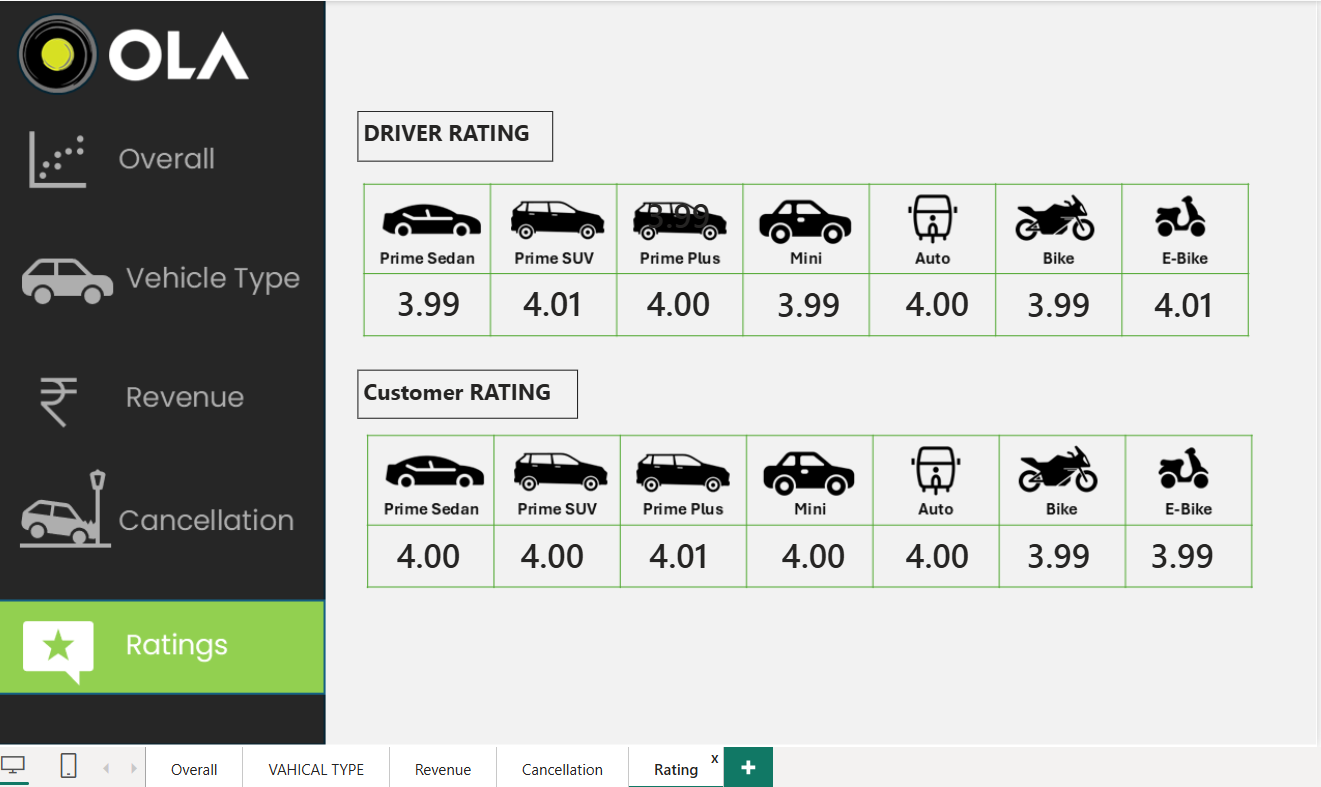

The dashboard page shown, as its layout file describes it:
{"tool":"powerbi","page":{"name":"Rating ","canvas":[1280,720],"ordinal":4},"visuals":[{"type":"actionButton","box":[0,581.5,322.1,85.7],"z":0},{"type":"actionButton","box":[0,340.2,322.1,92.9],"z":1000},{"type":"actionButton","box":[0,219.6,322.1,92.9],"z":2000},{"type":"actionButton","box":[0,333,322.1,92.9],"z":3000},{"type":"actionButton","box":[0,453.6,322.1,92.9],"z":4000},{"type":"cardVisual","fields":{"Data":["Avg(ola ola_d.Driver_Ratings)"]},"box":[354.3,255.7,137.1,67.1],"z":4001},{"type":"cardVisual","fields":{"Data":["Avg(ola ola_d.Driver_Ratings)"]},"box":[474.3,255.7,137.1,67.1],"z":4002},{"type":"cardVisual","fields":{"Data":["Avg(ola ola_d.Customer_Rating)"]},"box":[354.3,500,137.1,67.1],"z":4003},{"type":"cardVisual","fields":{"Data":["Avg(ola ola_d.Customer_Rating)"]},"box":[732.9,500,125.7,67.1],"z":4004},{"type":"cardVisual","fields":{"Data":["Avg(ola ola_d.Driver_Ratings)"]},"box":[595.7,255.7,137.1,67.1],"z":4005},{"type":"cardVisual","fields":{"Data":["Avg(ola ola_d.Driver_Ratings)"]},"box":[721.4,257.1,137.1,67.1],"z":4006},{"type":"cardVisual","fields":{"Data":["Avg(ola ola_d.Driver_Ratings)"]},"box":[595.7,171.4,137.1,67.1],"z":4008},{"type":"cardVisual","fields":{"Data":["Avg(ola ola_d.Driver_Ratings)"]},"box":[962.9,257.1,137.1,67.1],"z":4009},{"type":"cardVisual","fields":{"Data":["Avg(ola ola_d.Driver_Ratings)"]},"box":[845.7,255.7,137.1,67.1],"z":4010},{"type":"cardVisual","fields":{"Data":["Avg(ola ola_d.Driver_Ratings)"]},"box":[1082.9,257.1,137.1,67.1],"z":4011},{"type":"cardVisual","fields":{"Data":["Avg(ola ola_d.Customer_Rating)"]},"box":[474.3,500,137.1,67.1],"z":4012},{"type":"cardVisual","fields":{"Data":["Avg(ola ola_d.Customer_Rating)"]},"box":[595.7,500,137.1,67.1],"z":4013},{"type":"cardVisual","fields":{"Data":["Avg(ola ola_d.Customer_Rating)"]},"box":[851.4,500,125.7,67.1],"z":4014},{"type":"cardVisual","fields":{"Data":["Avg(ola ola_d.Customer_Rating)"]},"box":[1088.6,500,125.7,67.1],"z":4015},{"type":"cardVisual","fields":{"Data":["Avg(ola ola_d.Customer_Rating)"]},"box":[968.6,500,125.7,67.1],"z":4016},{"type":"textbox","box":[354.3,105.7,188.6,48.6],"z":4017},{"type":"textbox","box":[354.3,355.7,212.9,47.1],"z":4018}]}

Visuals, with their boxes on the page's 1280x720 design canvas (x1, y1, x2, y2). These are canvas units, not pixel positions in the 1321x787 screenshot, which may show the page scaled, cropped or inside an application window:
actionButton: [x1=0, y1=582, x2=322, y2=667]
actionButton: [x1=0, y1=340, x2=322, y2=433]
actionButton: [x1=0, y1=220, x2=322, y2=312]
actionButton: [x1=0, y1=333, x2=322, y2=426]
actionButton: [x1=0, y1=454, x2=322, y2=546]
cardVisual - Avg(ola ola_d.Driver_Ratings): [x1=354, y1=256, x2=491, y2=323]
cardVisual - Avg(ola ola_d.Driver_Ratings): [x1=474, y1=256, x2=611, y2=323]
cardVisual - Avg(ola ola_d.Customer_Rating): [x1=354, y1=500, x2=491, y2=567]
cardVisual - Avg(ola ola_d.Customer_Rating): [x1=733, y1=500, x2=859, y2=567]
cardVisual - Avg(ola ola_d.Driver_Ratings): [x1=596, y1=256, x2=733, y2=323]
cardVisual - Avg(ola ola_d.Driver_Ratings): [x1=721, y1=257, x2=858, y2=324]
cardVisual - Avg(ola ola_d.Driver_Ratings): [x1=596, y1=171, x2=733, y2=238]
cardVisual - Avg(ola ola_d.Driver_Ratings): [x1=963, y1=257, x2=1100, y2=324]
cardVisual - Avg(ola ola_d.Driver_Ratings): [x1=846, y1=256, x2=983, y2=323]
cardVisual - Avg(ola ola_d.Driver_Ratings): [x1=1083, y1=257, x2=1220, y2=324]
cardVisual - Avg(ola ola_d.Customer_Rating): [x1=474, y1=500, x2=611, y2=567]
cardVisual - Avg(ola ola_d.Customer_Rating): [x1=596, y1=500, x2=733, y2=567]
cardVisual - Avg(ola ola_d.Customer_Rating): [x1=851, y1=500, x2=977, y2=567]
cardVisual - Avg(ola ola_d.Customer_Rating): [x1=1089, y1=500, x2=1214, y2=567]
cardVisual - Avg(ola ola_d.Customer_Rating): [x1=969, y1=500, x2=1094, y2=567]
textbox: [x1=354, y1=106, x2=543, y2=154]
textbox: [x1=354, y1=356, x2=567, y2=403]
